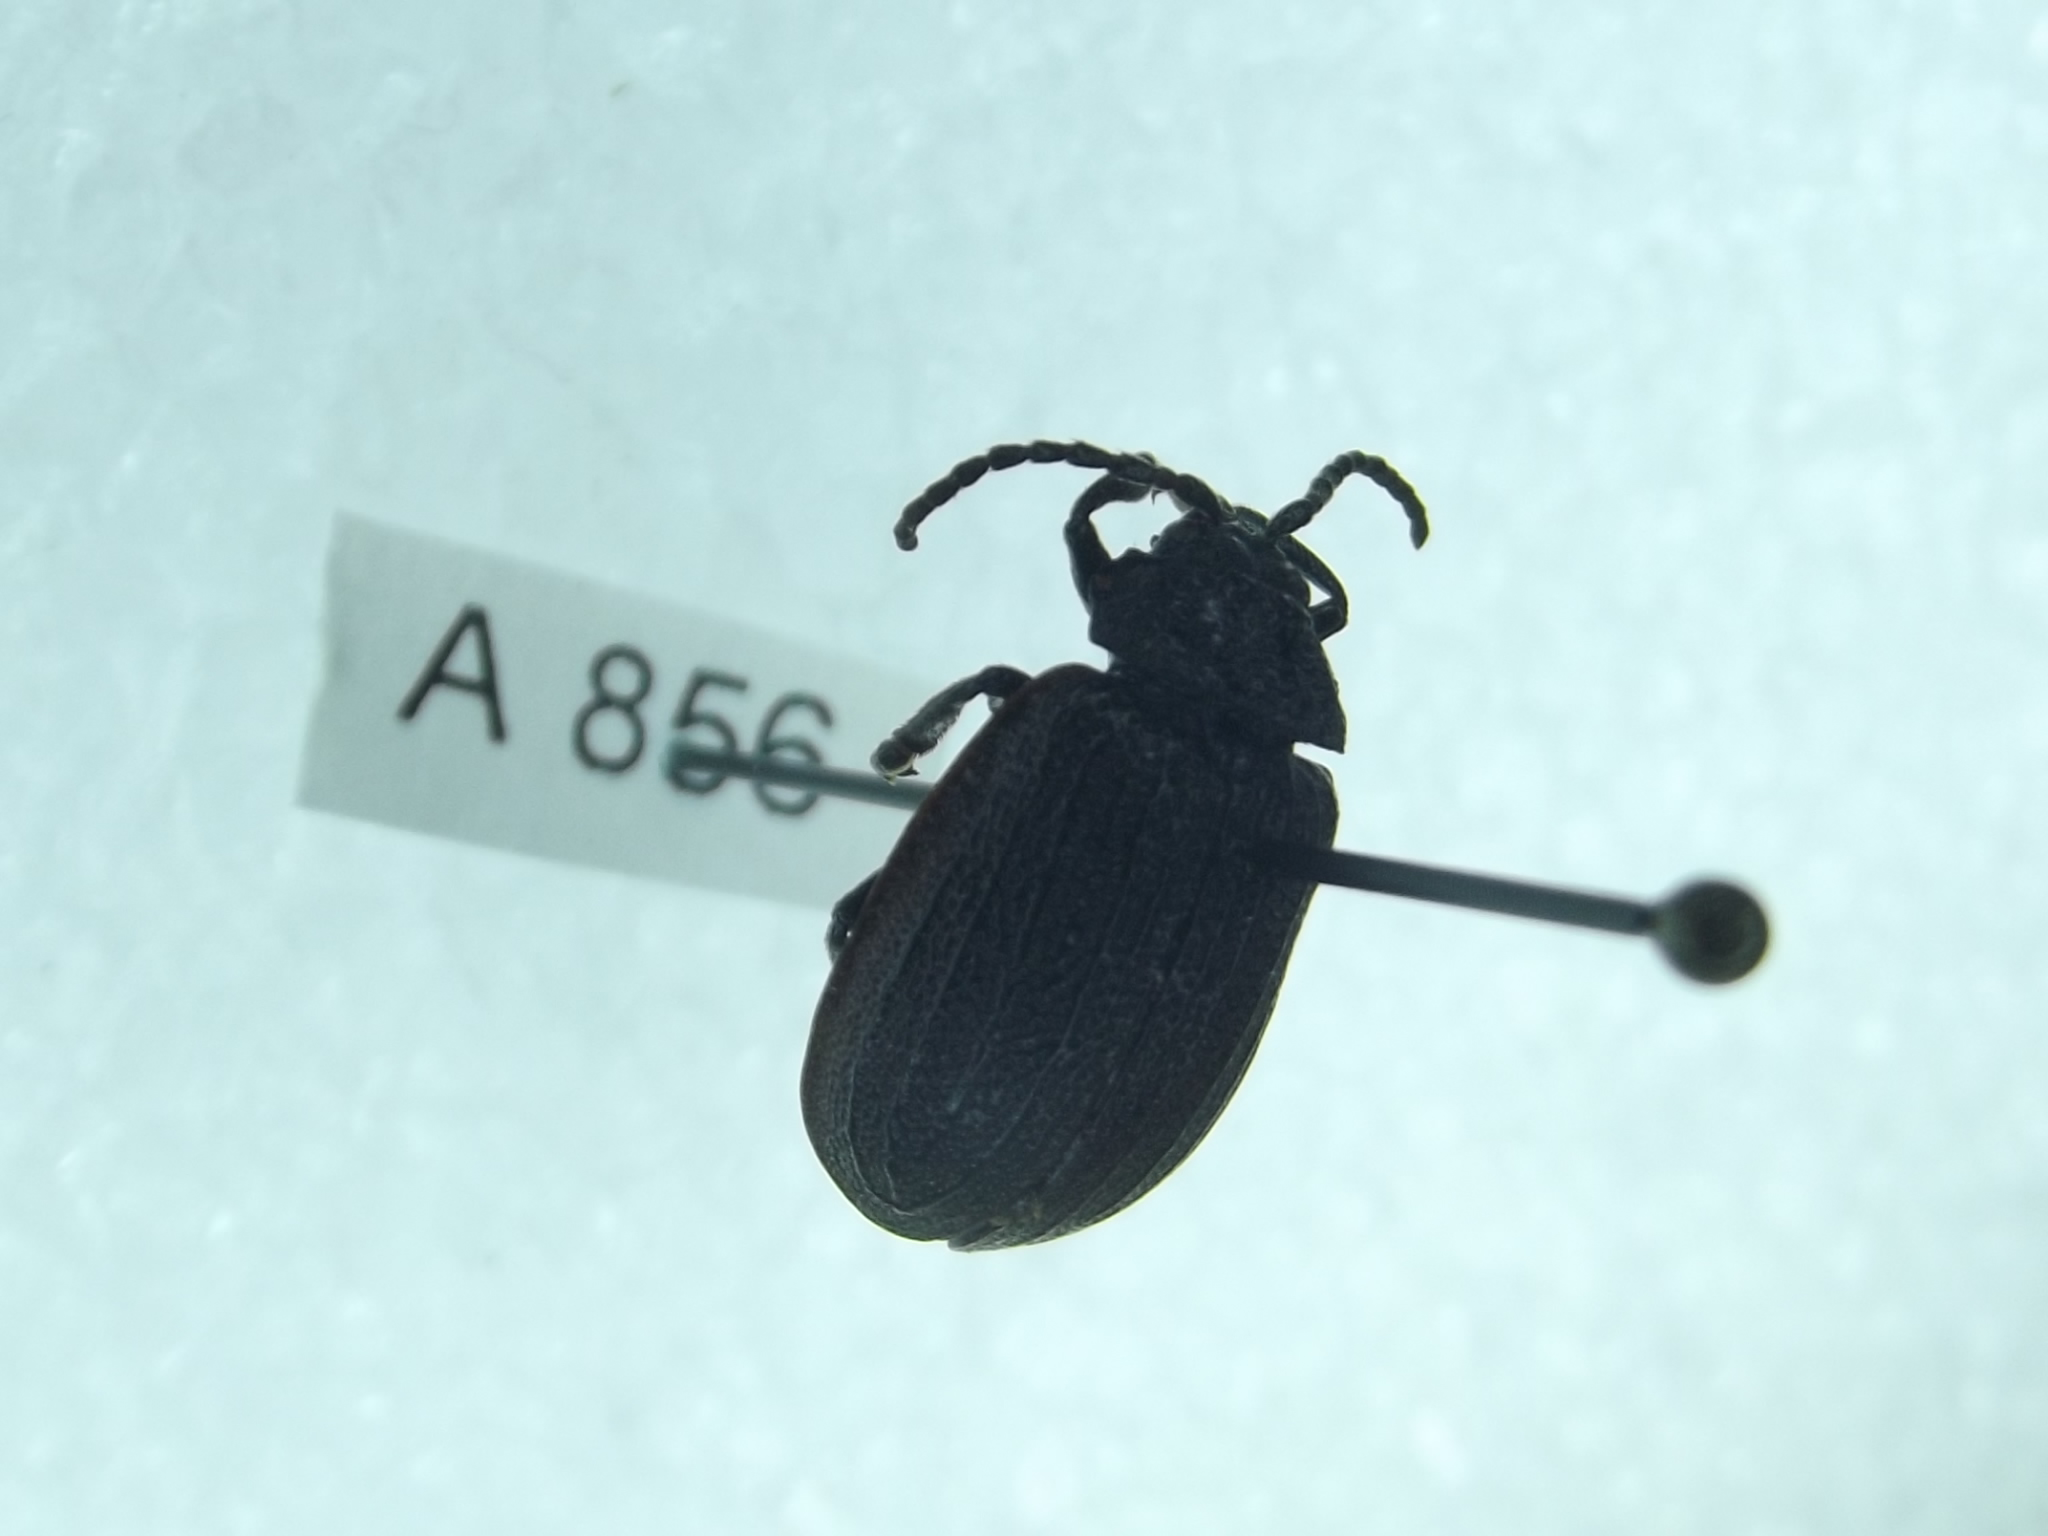Galeruca_tanaceti: (789, 423, 1445, 1267)
